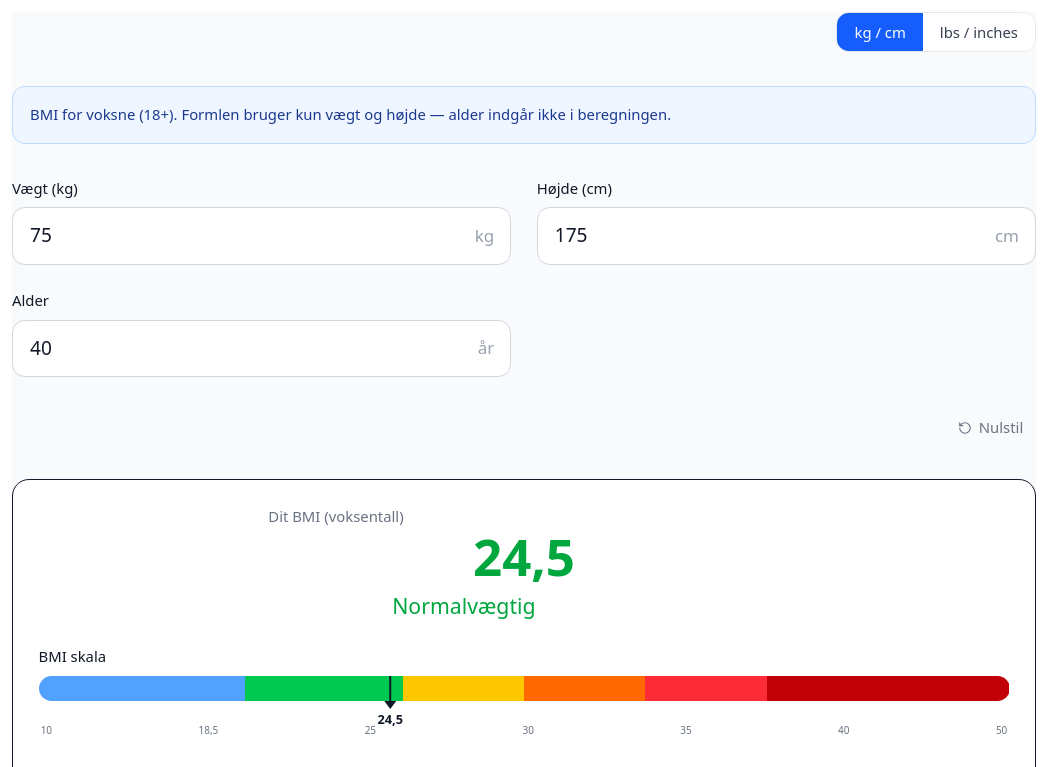
Scenario: BMIBeregner › synkroniserer fokuserede felter ved enhedsskift og nulstilling
The image size is (1048, 767).
Replace the text in the number field labelled "Vægt (kg)" with "90": (262, 236) [12,207,511,265]
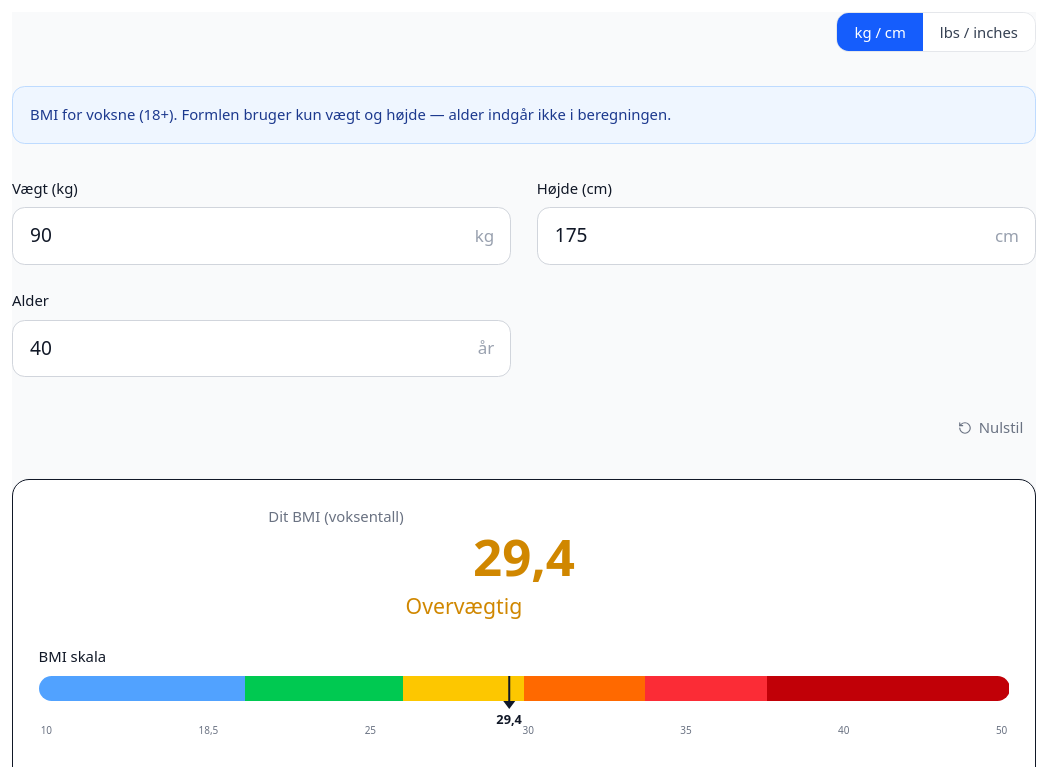
Click the button "lbs / inches": (979, 32) [923,13,1035,51]
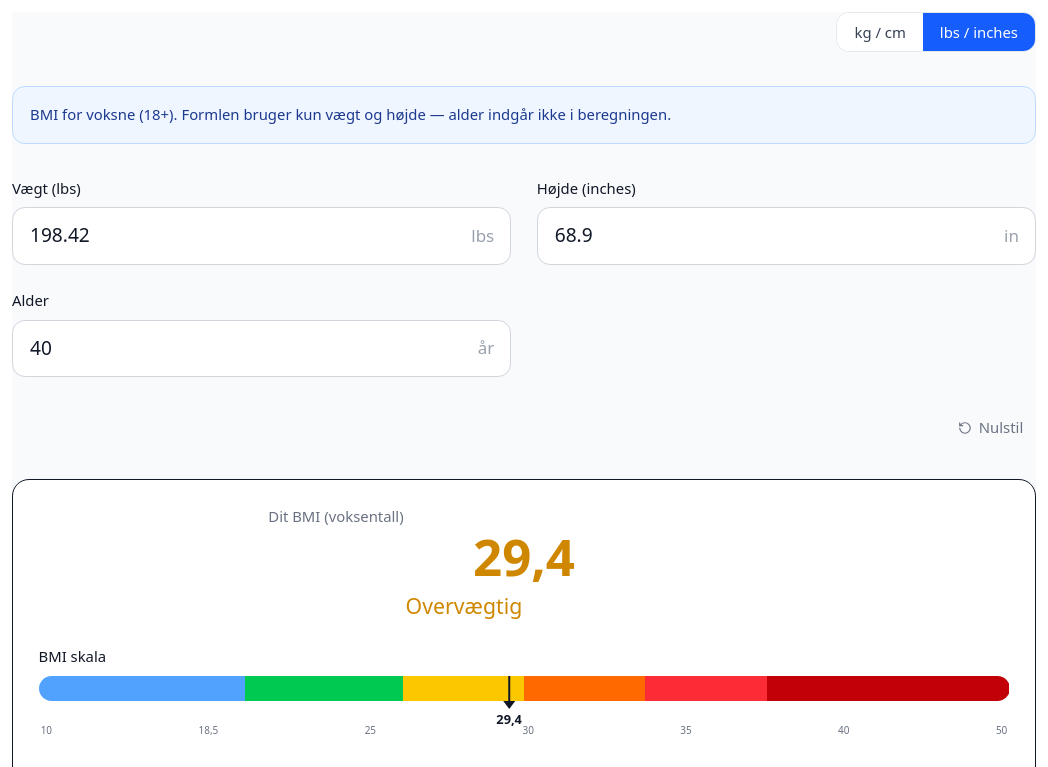
Now the number field labelled "Vægt (lbs)" holds "198.42", box [12,207,511,265]
Click the button "Nulstil": (991, 428) [946,411,1036,445]
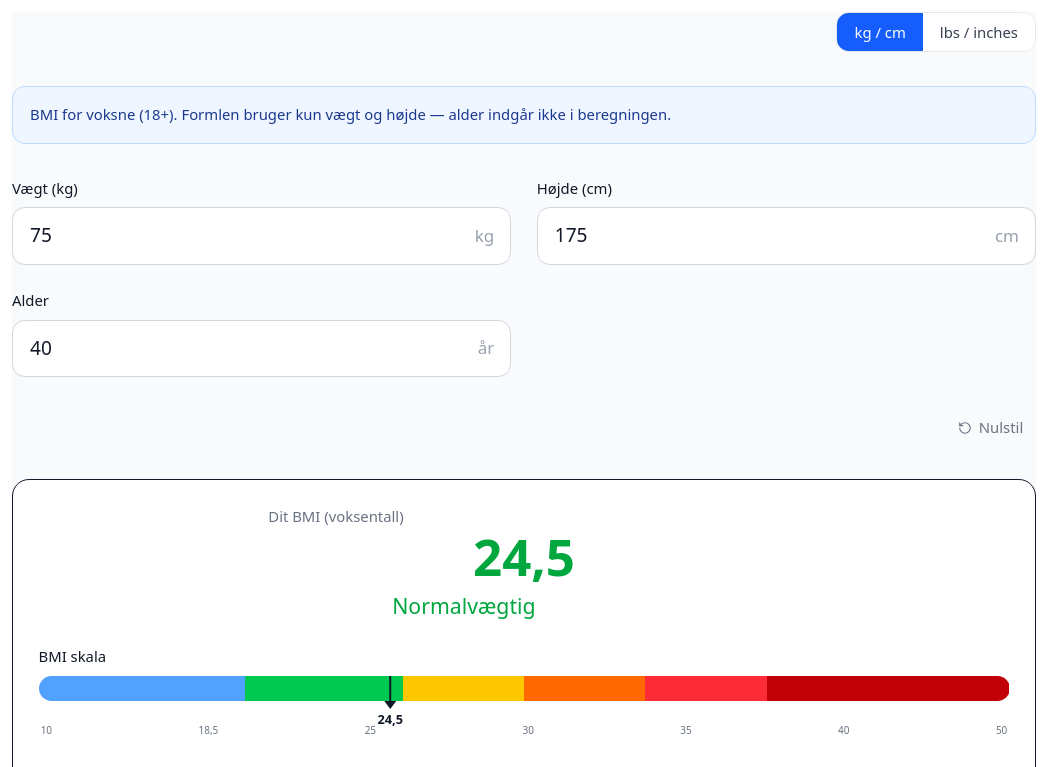
Now the number field labelled "Vægt (kg)" holds "75", box [12,207,511,265]
Now the number field labelled "Højde (cm)" holds "175", box [537,207,1036,265]
Now the text "24,5" below "Dit BMI (voksentall)" is shown, box [473,521,575,591]
